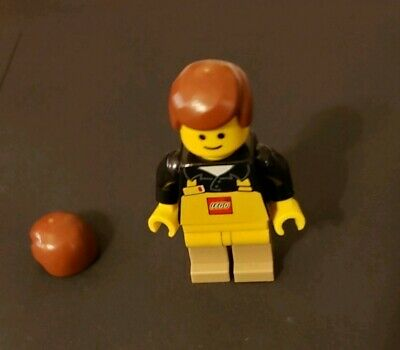lego: (138, 54, 313, 289)
